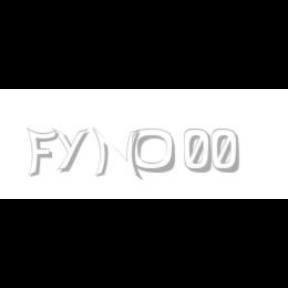0: (184, 128, 214, 174), (212, 128, 242, 174)
F: (26, 128, 58, 178)
N: (92, 128, 140, 180)
O: (132, 128, 176, 174)
y: (52, 128, 92, 172)
